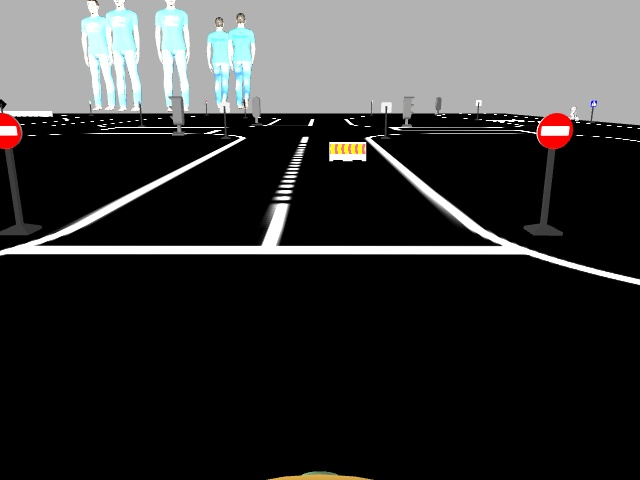ClosedRoadStand: (330, 141, 366, 160)
NoEntry: (538, 112, 571, 145), (0, 109, 24, 146)
